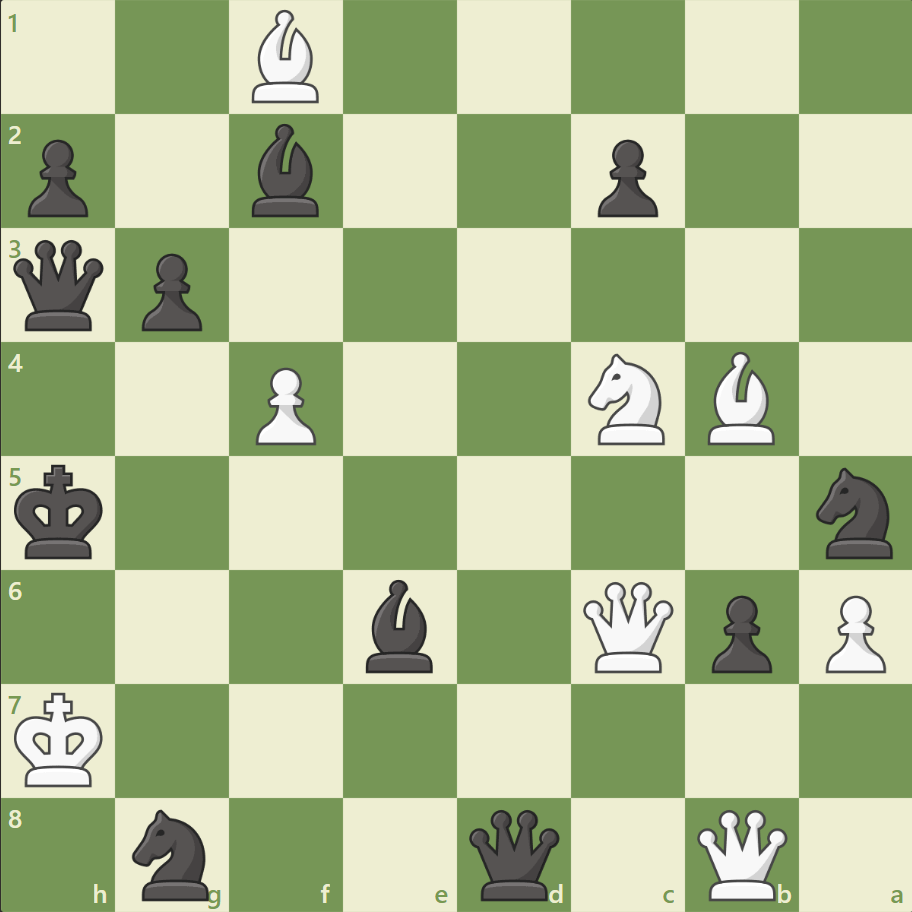B: (244, 6, 328, 109), (698, 347, 782, 449)
K: (11, 685, 111, 793)
N: (579, 348, 676, 450)
P: (247, 359, 322, 450), (815, 586, 889, 677)
Q: (578, 576, 677, 676), (691, 804, 790, 903)
b: (358, 574, 442, 676), (244, 120, 328, 222)
k: (11, 458, 111, 566)
n: (124, 802, 222, 904), (806, 461, 903, 564)
p: (701, 586, 776, 677), (133, 246, 208, 337), (20, 132, 95, 223), (588, 132, 662, 223)
q: (464, 804, 563, 903), (10, 236, 109, 335)
